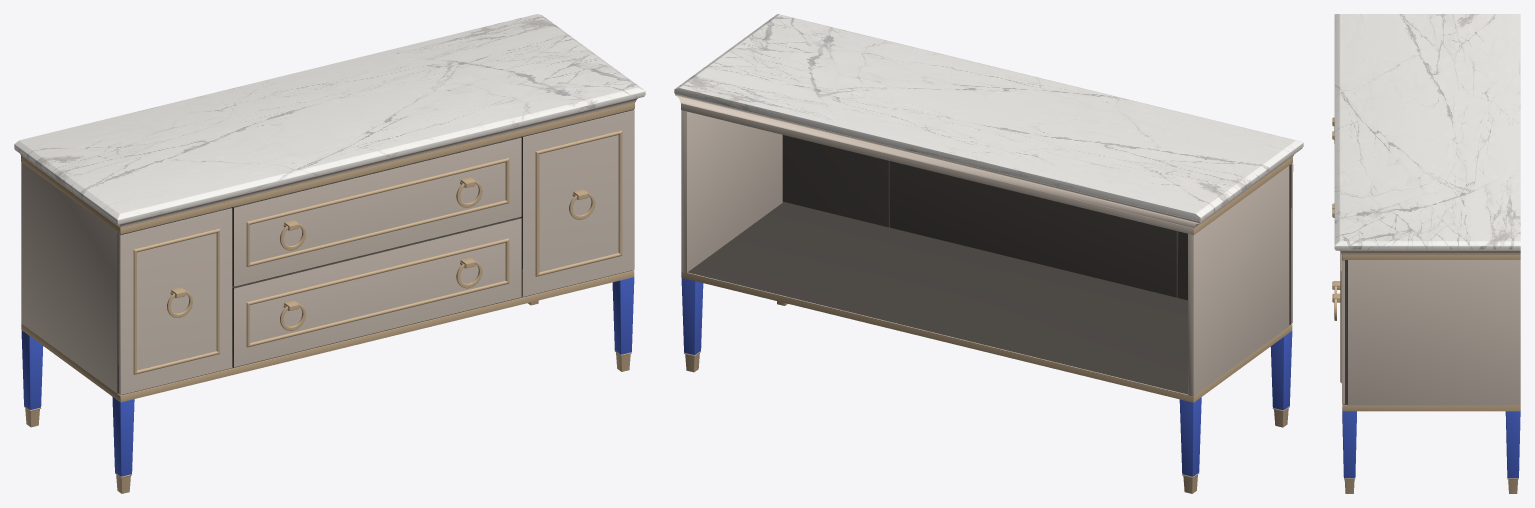
The picture shows the model from 3 angles, left to right: view 1: azimuth 30°, elevation 25°; view 2: azimuth 150°, elevation 25°; view 3: azimuth 270°, elevation 25°; orthographic projection. The views are drawn at different scales.
Parts seen in each view (by area): view 1: AV08; view 2: AV08; view 3: AV08.
Boxes of the visible parts, x1,y1,x2,y2 form: AV08: (14, 14, 645, 493); AV08: (674, 14, 1303, 493); AV08: (1332, 14, 1520, 493).
Size of the model in its own units: 1.65 by 0.847 by 0.5666.
Materials: 6 (3 with a texture image).
